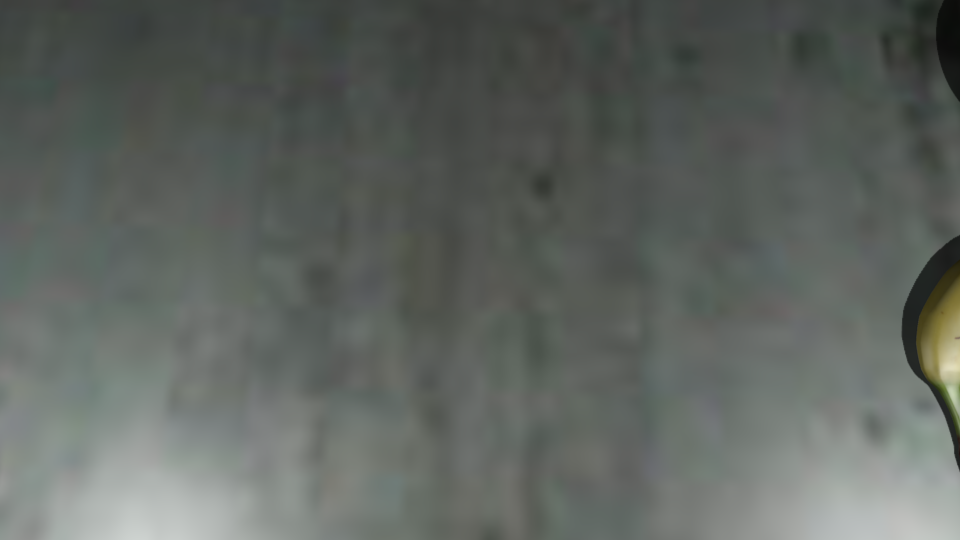banana: (917, 275, 960, 457)
